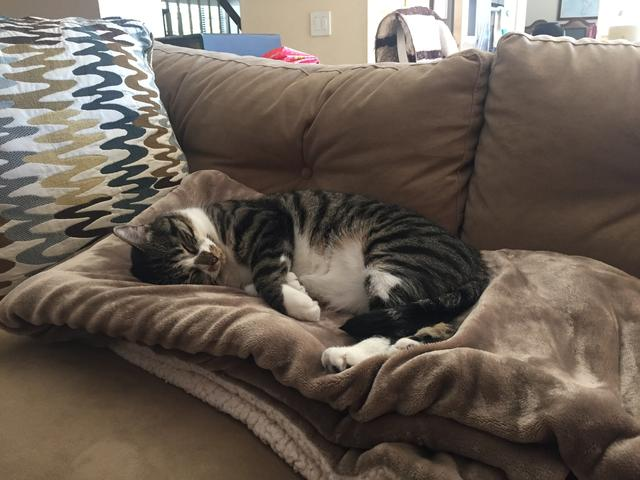playdoh: (114, 190, 488, 368)
